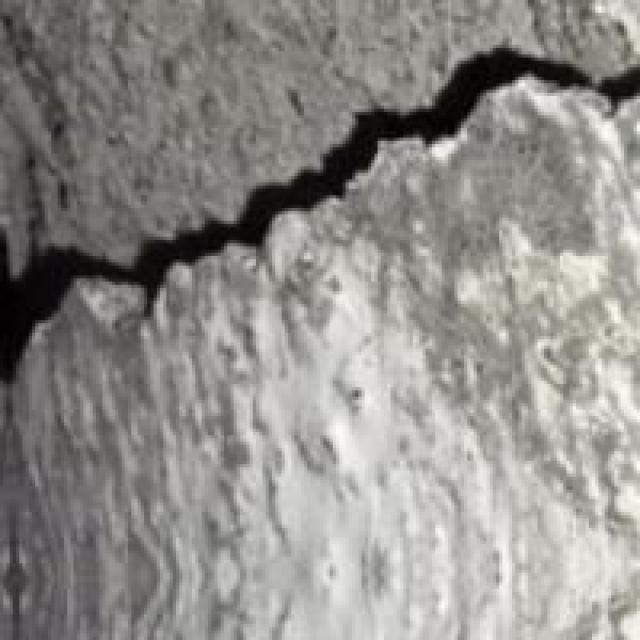crack: (0, 19, 637, 442)
